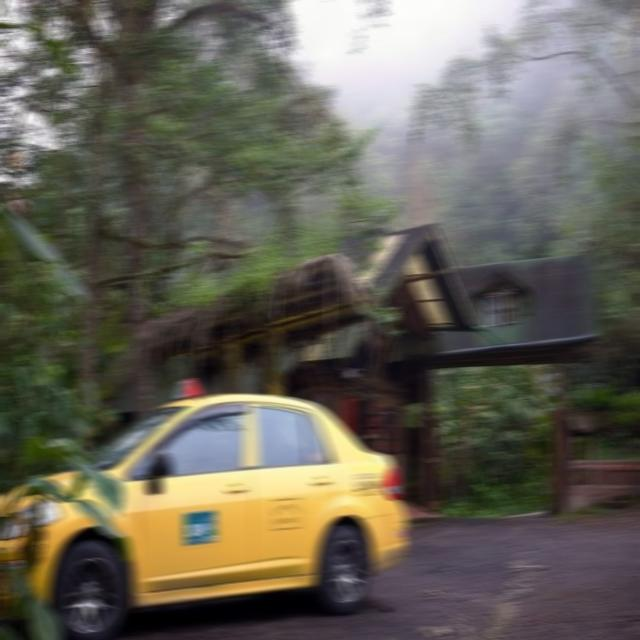Taxi: (42, 378, 428, 640)
